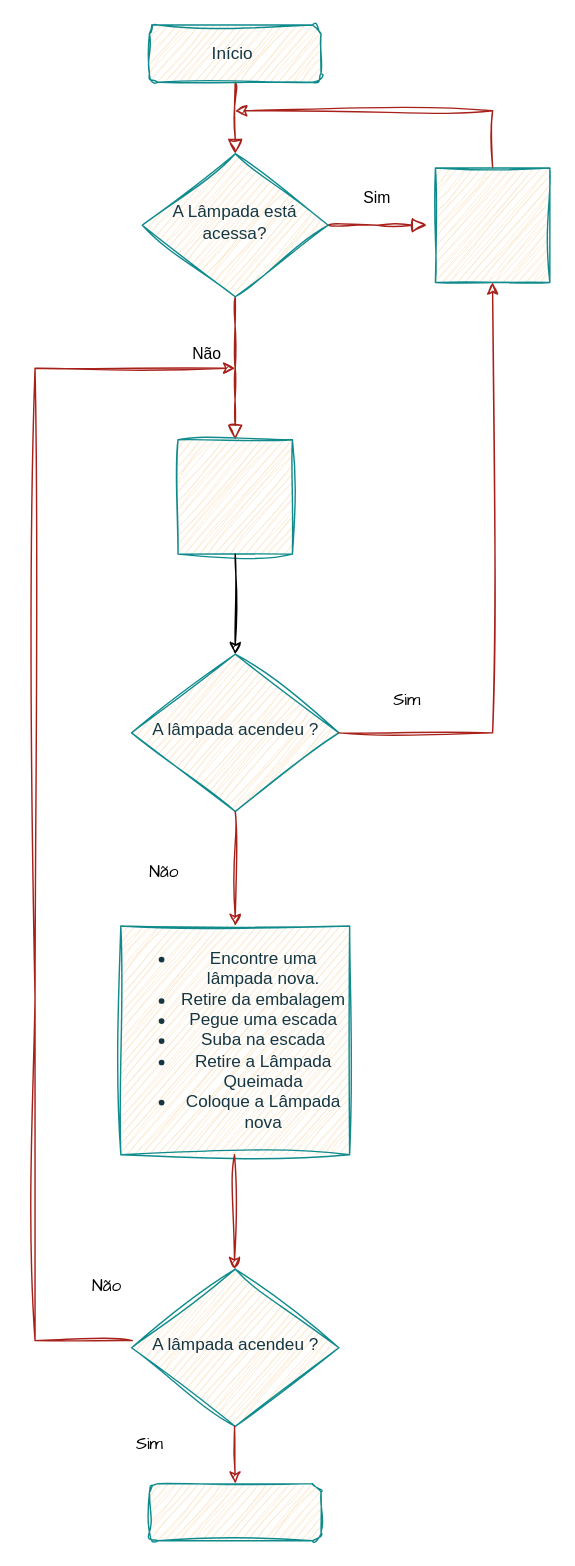
Some shapes in this 575 by 1566 pixel diagram are drawn without their labels. Each missing label, with the centre of its shape:
Aperte o interruptor: the point at 234,496
Fim: the point at 234,1511
Vá para outro cômodo: the point at 492,224
